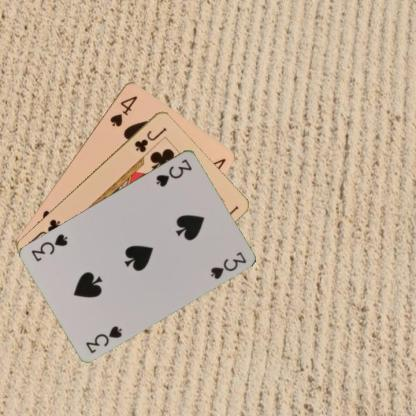3s: (82, 322, 124, 355), (153, 156, 193, 188)
4s: (107, 92, 139, 128)
Jc: (132, 124, 168, 154)
